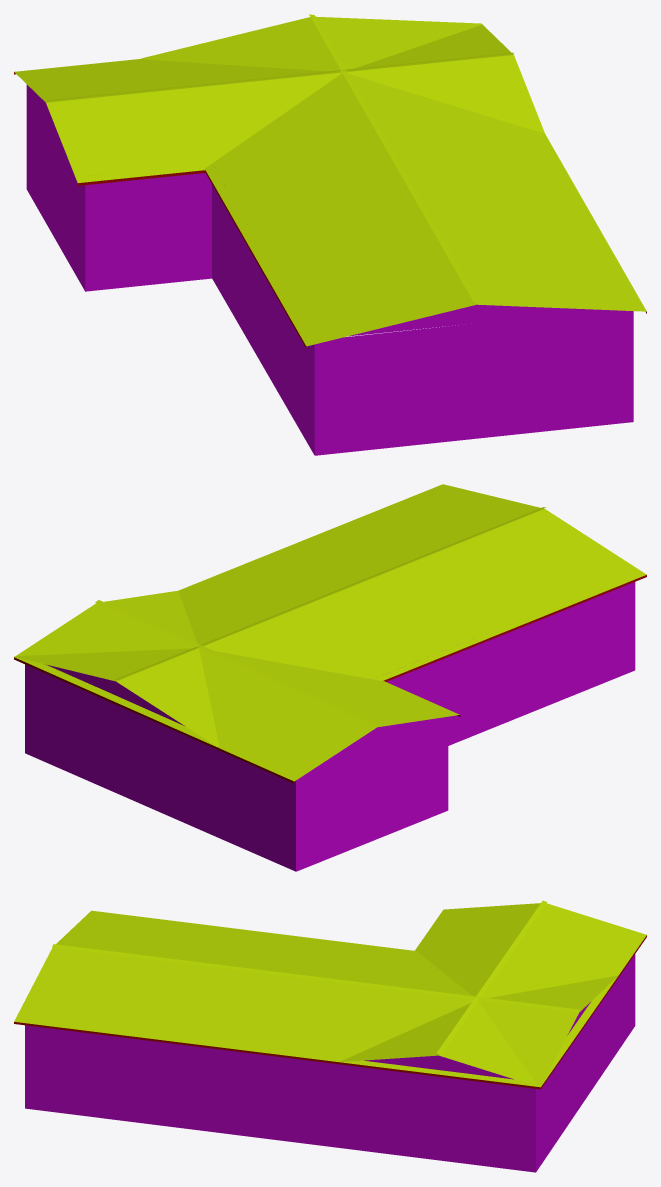
Rendered from rmc_73.glb.
The picture shows the model from 3 angles, top to bottom: view 1: azimuth 30°, elevation 25°; view 2: azimuth 150°, elevation 25°; view 3: azimuth 270°, elevation 25°; orthographic projection. The views are drawn at different scales.
Parts seen in each view (by area): view 1: rmc_73; view 2: rmc_73; view 3: rmc_73.
Part boxes in pixels (<box>): rmc_73: <box>14,14,646,455</box>; rmc_73: <box>14,484,646,871</box>; rmc_73: <box>14,900,646,1172</box>.
Bounding box in the file's own units: 21.28 × 6.15 × 31.97.
